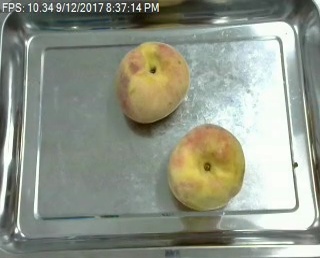Peach: (167, 122, 246, 211), (114, 40, 190, 123)
